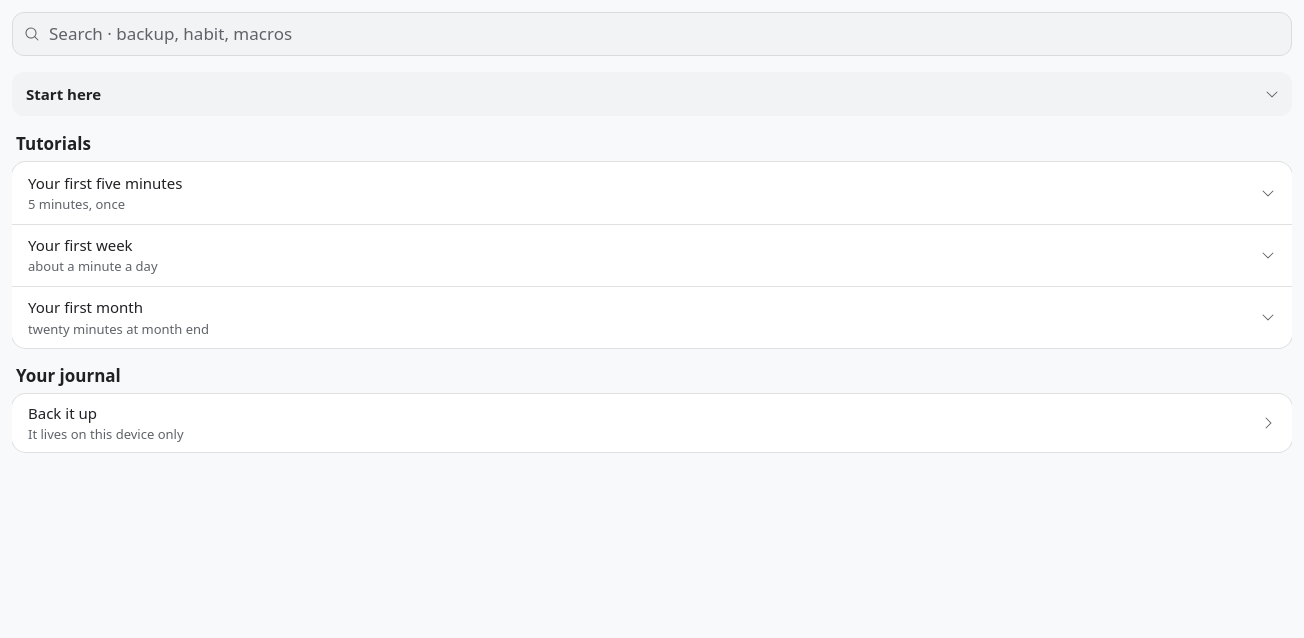
Scenario: Help on a phone › a search crosses every section and opens its hits
The width and height of the screenshot is (1304, 638).
Type "backup" into the search field named "Search the guide" at (652, 34), box [12, 12, 1292, 56]
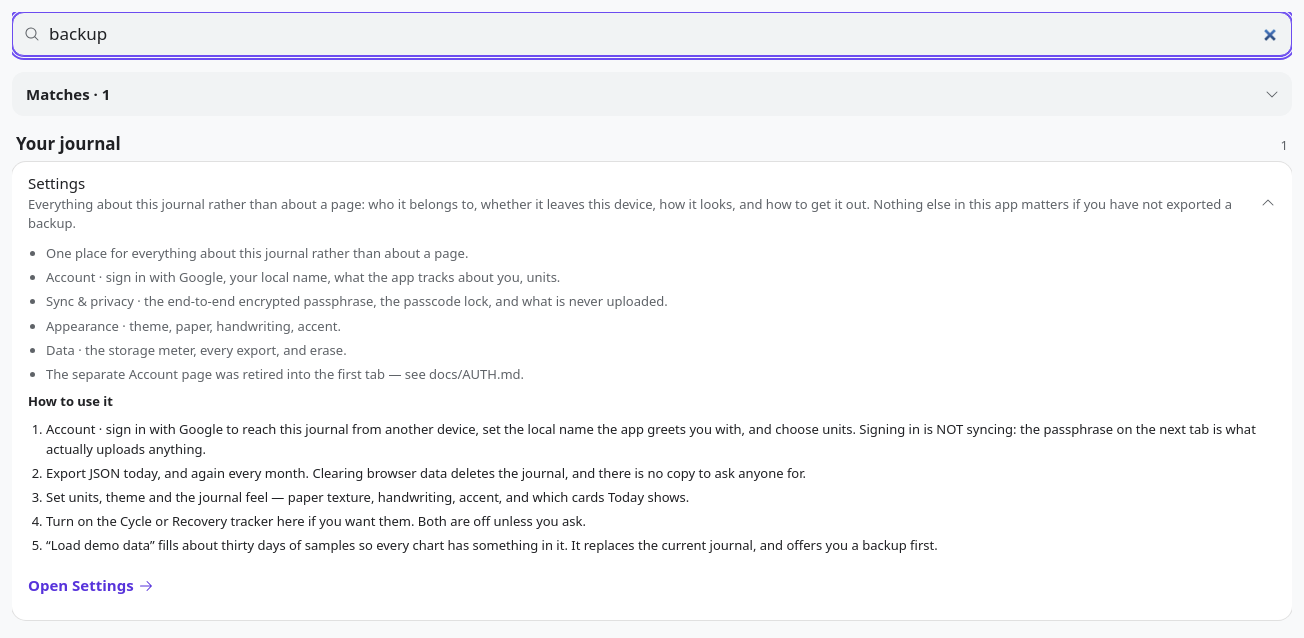
Now the dropdown shows "Matches · 1", box [12, 72, 1292, 116]
Now the button that starts with "Settings" is shown, box [12, 162, 1292, 243]
